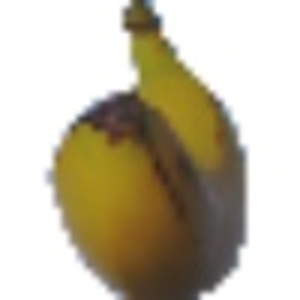banana: (44, 3, 253, 298)
